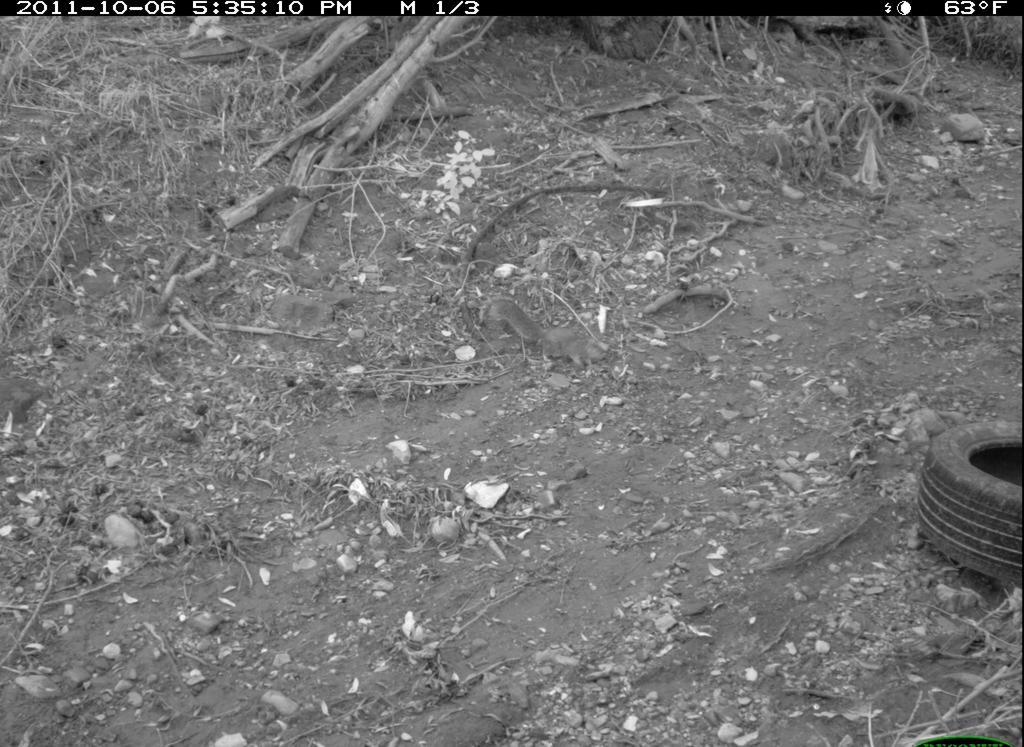squirrel: (474, 297, 626, 377)
